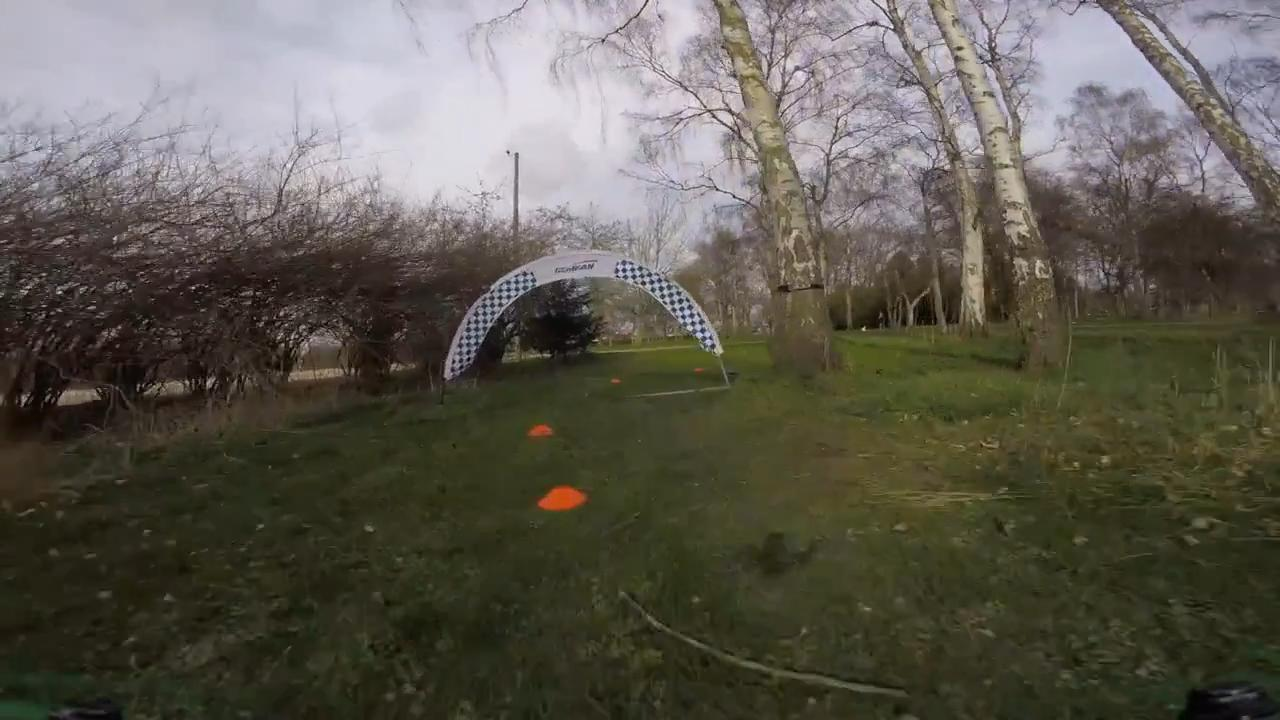gate: (441, 248, 725, 387)
